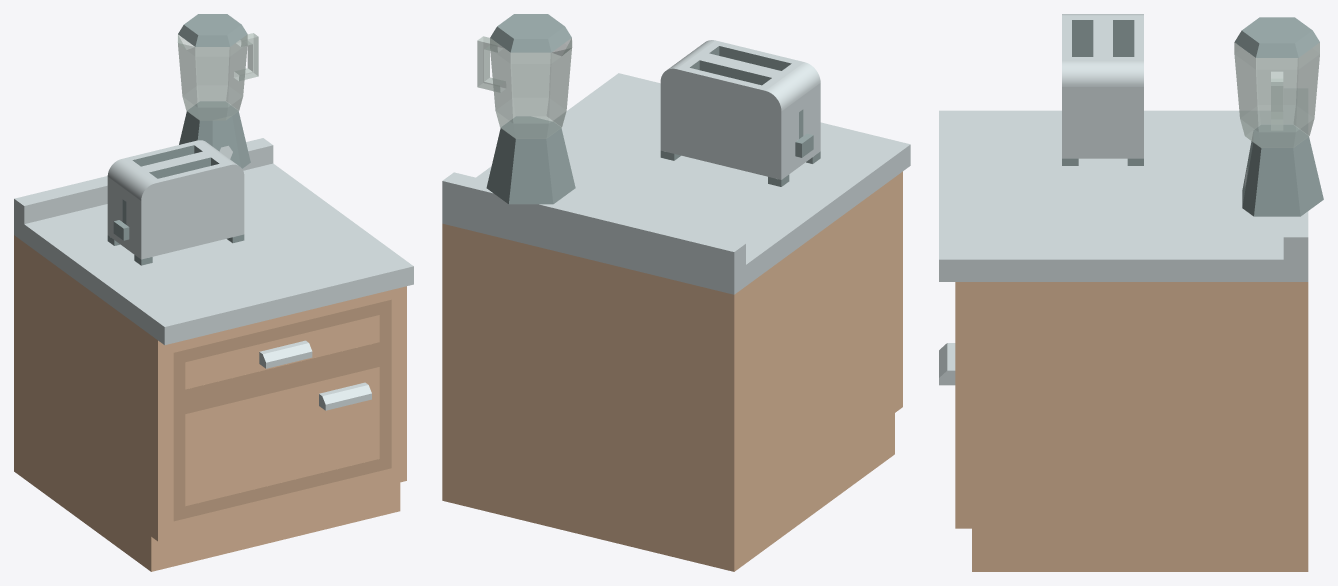
The model's file is breakfastCounter.glb.
3 views of the same model, side by side, from view 1: azimuth 30°, elevation 25°; view 2: azimuth 150°, elevation 25°; view 3: azimuth 270°, elevation 25° (orthographic). The views are drawn at different scales.
Visible parts, largest first — view 1: kitchenCabinetDrawer(Clone), door, toaster(Clone), blenderCup; view 2: kitchenCabinetDrawer(Clone), toaster(Clone), blenderCup; view 3: kitchenCabinetDrawer(Clone), toaster(Clone), blenderCup.
Boxes of the visible parts, x1=… form: kitchenCabinetDrawer(Clone): x1=14, y1=138, x2=413, y2=571; door: x1=173, y1=299, x2=391, y2=521; toaster(Clone): x1=107, y1=14, x2=250, y2=265; blenderCup: x1=177, y1=33, x2=258, y2=120; kitchenCabinetDrawer(Clone): x1=442, y1=40, x2=910, y2=571; toaster(Clone): x1=486, y1=14, x2=820, y2=204; blenderCup: x1=477, y1=36, x2=572, y2=138; kitchenCabinetDrawer(Clone): x1=939, y1=14, x2=1308, y2=571; toaster(Clone): x1=1062, y1=17, x2=1323, y2=216; blenderCup: x1=1234, y1=42, x2=1319, y2=147.
Size of the model in its own units: 0.43 by 0.6775 by 0.4691.
